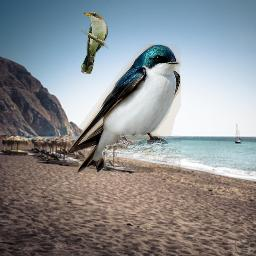Cuckoo: (81, 12, 108, 74)
Swallow: (67, 44, 181, 173)
